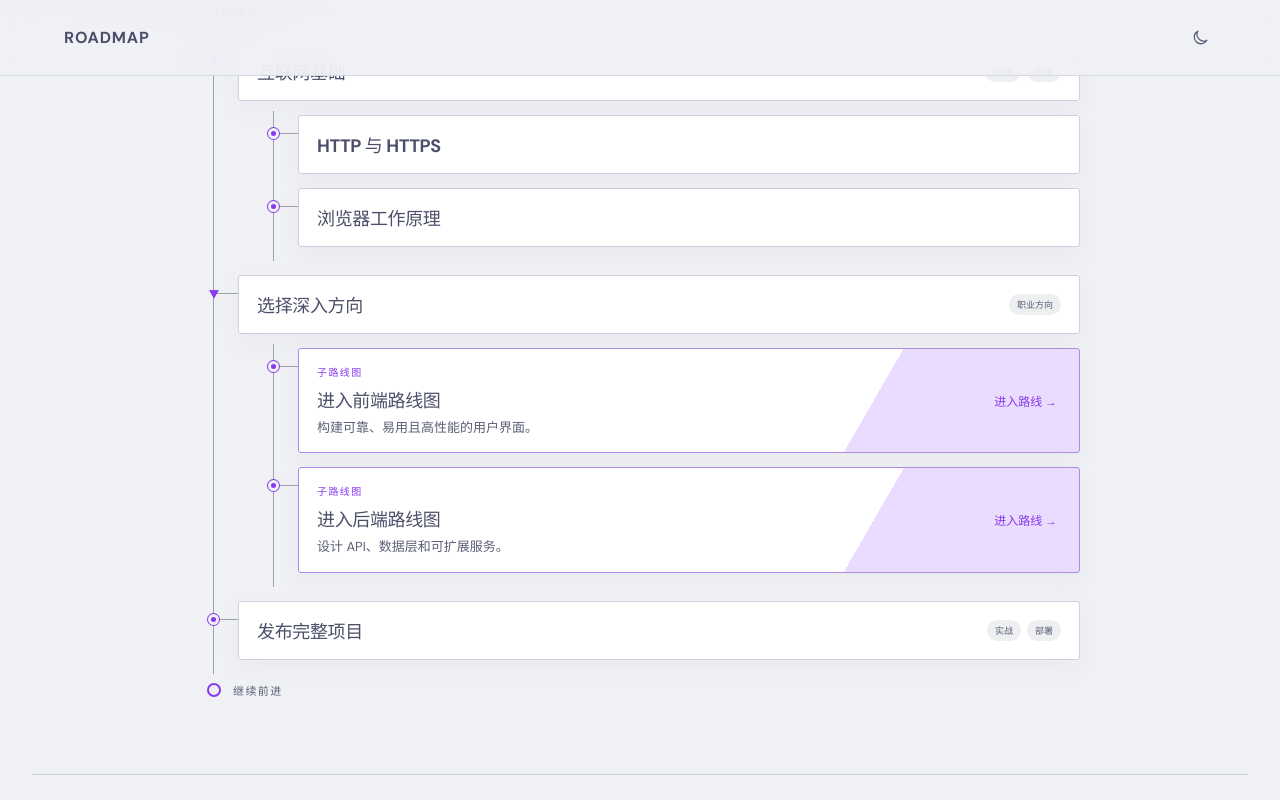
it: App › navigates into a referenced roadmap with breadcrumbs
(page scrolled)
What coordinates should you click on to do the following:
click the link "子路线图 进入前端路线图 构建可靠、易用且高性能的用户界面。 进入路线 →"
I would click on:
 (340, 372)
Its box is 298,348 -> 1080,454.
(page scrolled)
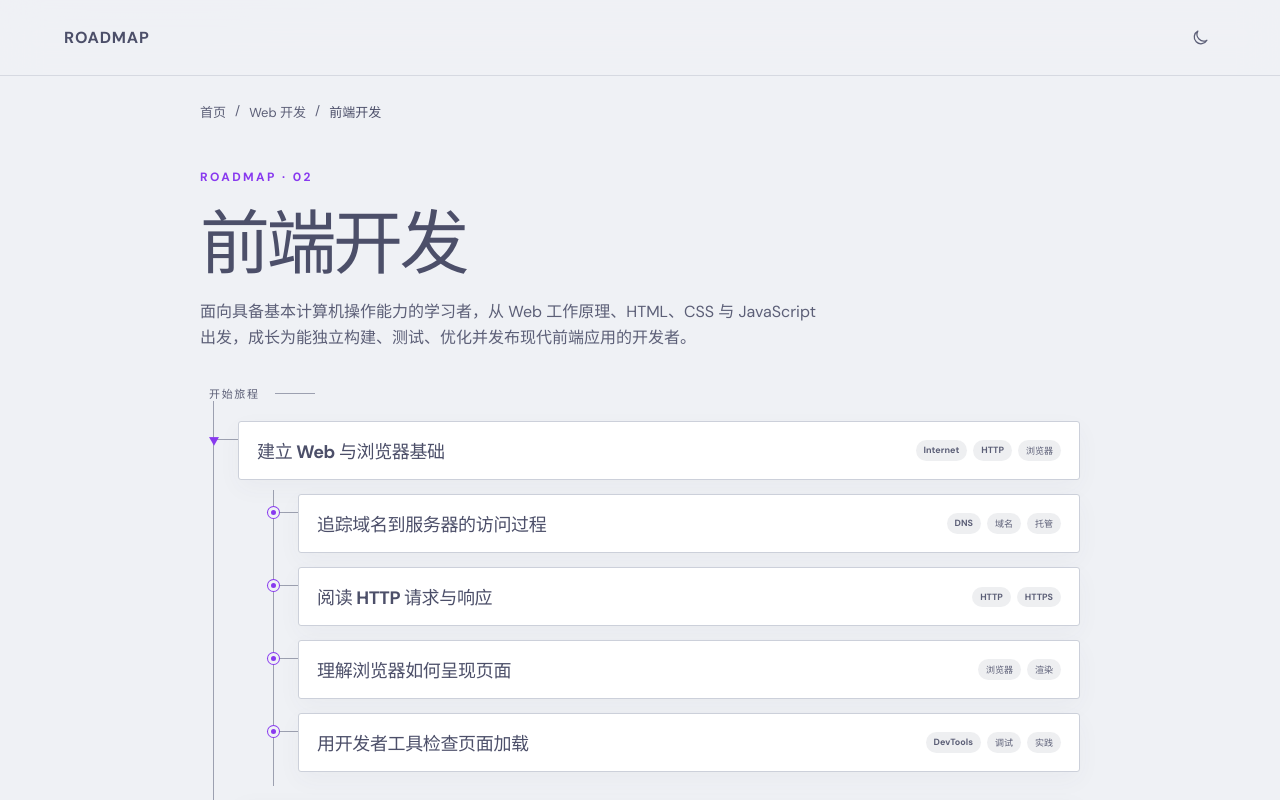
Expected: the navigation bar named "面包屑导航" shows "Web 开发", 249,102 -> 306,121
Expected: the heading "前端开发" is shown, 200,199 -> 466,290
